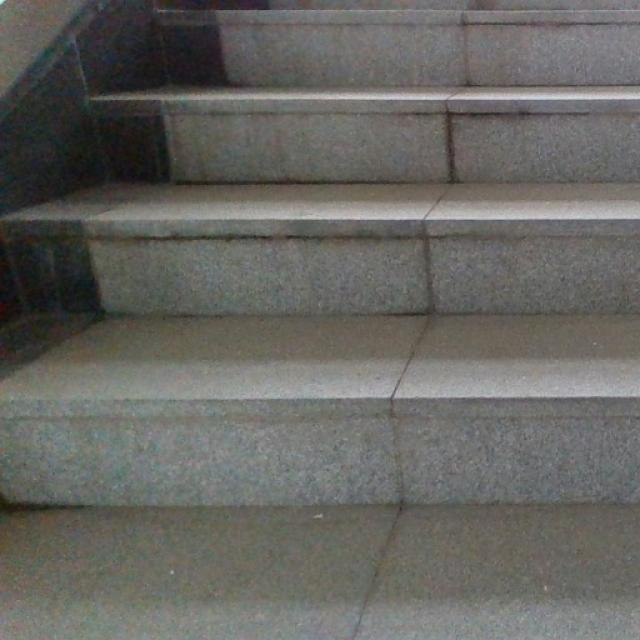Stairs: (0, 0, 639, 509)
